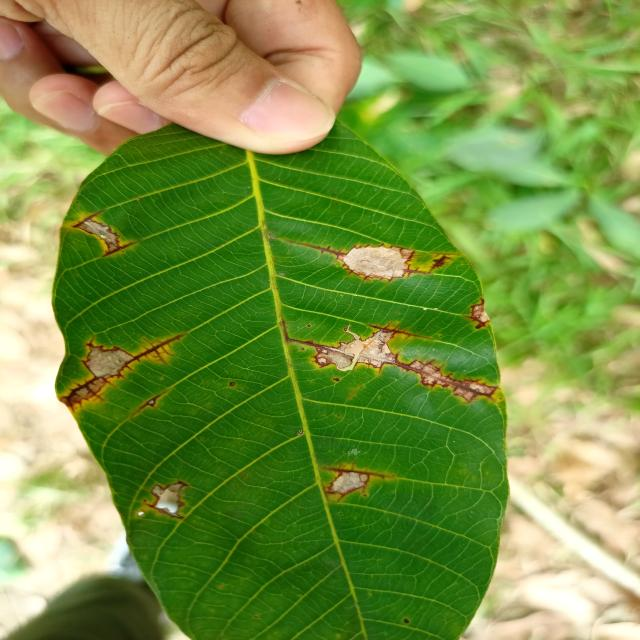Colletotrichum: (404, 618, 409, 624), (229, 382, 236, 386), (307, 324, 311, 327), (373, 365, 377, 368), (384, 353, 388, 356), (344, 328, 347, 331)
Corynespora: (281, 324, 499, 402), (60, 333, 186, 414), (288, 240, 430, 283), (316, 332, 394, 371), (319, 464, 393, 482), (366, 321, 432, 341), (133, 390, 169, 415), (426, 252, 458, 273), (73, 209, 105, 229), (100, 241, 139, 257)
Leaf-Blight: (344, 247, 408, 279), (85, 346, 134, 377), (76, 220, 118, 250), (330, 474, 369, 494), (471, 304, 491, 322)
